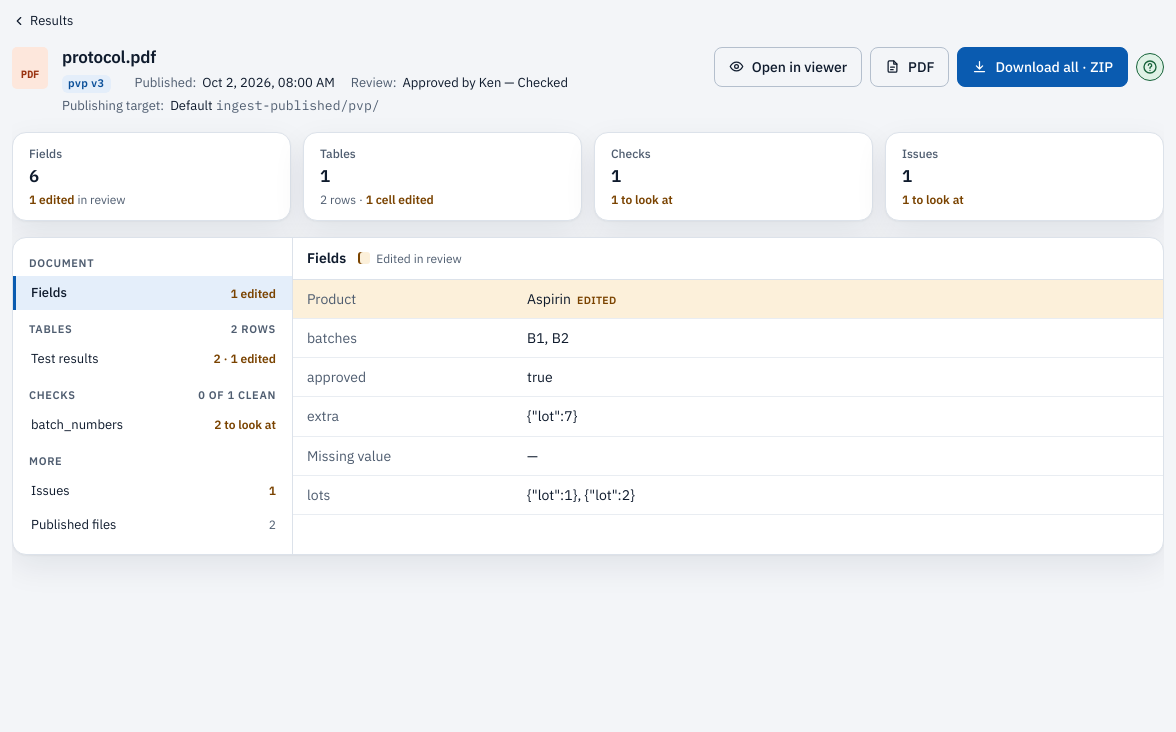
Test: ResultDetailView › shows a matching check as values, results and what each matched
The width and height of the screenshot is (1176, 732).
Click the button "batch_numbers 2 to look at".
click(77, 424)  # box [13,408,292,442]
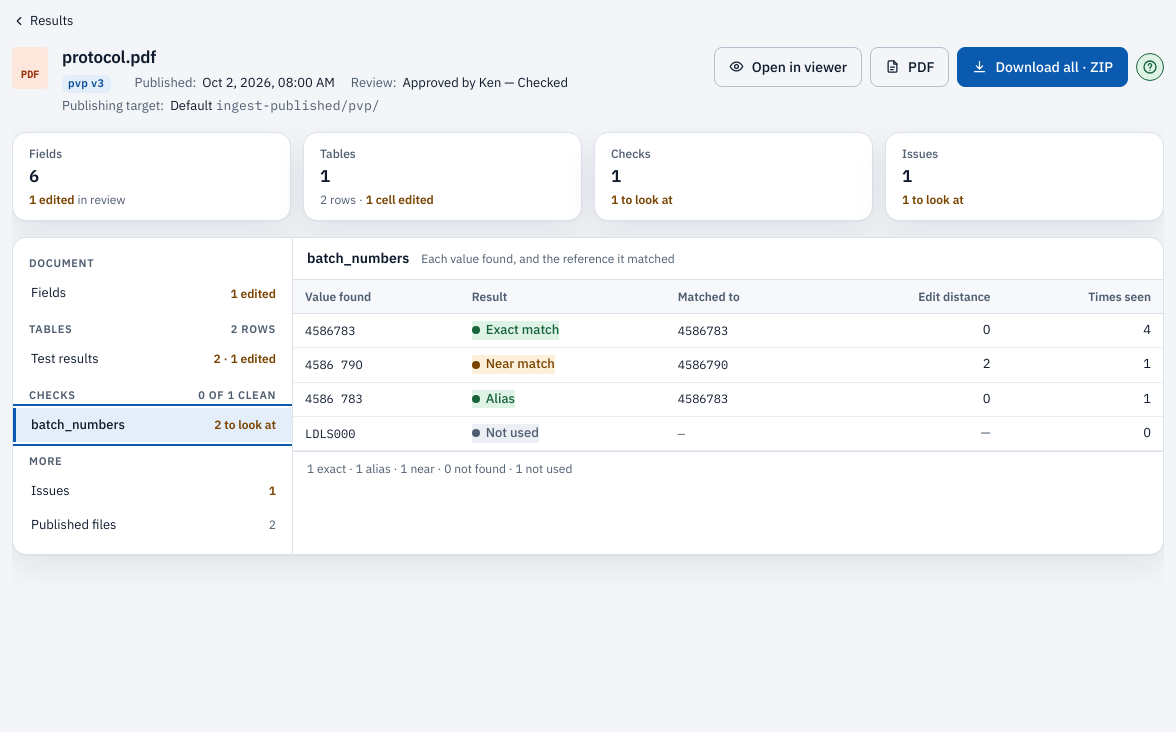
Check: the column headings read "Value found", "Result", "Matched to", "Edit distance", "Times seen", in this order, box [293,280,460,314]; [460,280,666,314]; [666,280,825,314]; [825,280,1002,314]; [1002,280,1163,314]
Check: the element "batch_numbers" shows "1 exact · 1 alias · 1 near · 0 not found · 1 not used", box [293,238,1163,554]
